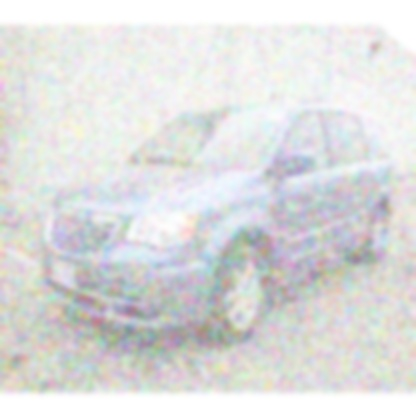Vehicle: (39, 101, 394, 346)
